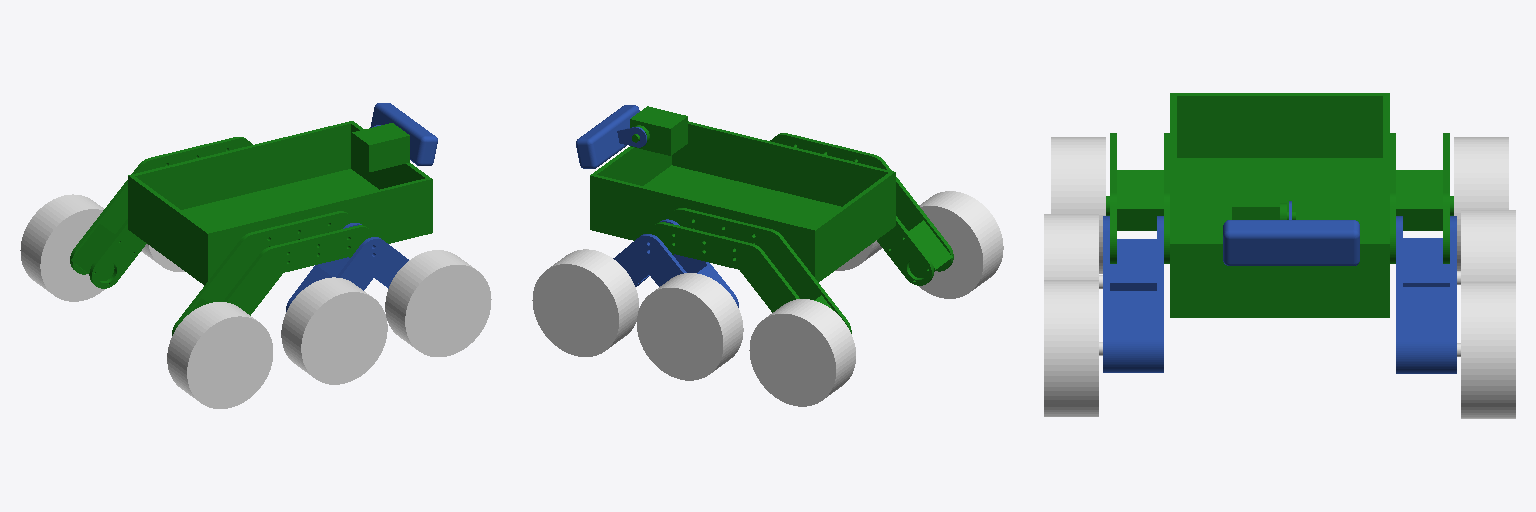
--- What the picture shows (computed from the rendered views, not written in the file) ---
The picture shows the robot from 3 angles, left to right: view 1: azimuth 30°, elevation 25°; view 2: azimuth 150°, elevation 25°; view 3: azimuth 270°, elevation 25°; orthographic projection.
Robot: robot — 11 links, 10 joints (3 revolute, 6 continuous, 1 fixed); root link dummy; default pose: all joints at 0 but 1 set to mid-range because 0 is outside their limits (Junta_Camara = 5.97).
Links seen in each view (by area): view 1: l1, rueda10cm_2, rueda10cm_6, rueda10cm, rueda10cm_5, l2_l3_modificado-2, conexion_mr; view 2: l1, rueda10cm_5, rueda10cm_3, rueda10cm_4, rueda10cm_6, l2_l3_modificado-2_2, conexion_mr; view 3: l1, l2_l3_modificado-2_2, l2_l3_modificado-2, rueda10cm, rueda10cm_4, conexion_mr, rueda10cm_6, rueda10cm_5, rueda10cm_3, rueda10cm_2.
Boxes of the visible links, x1=… form: l1: x1=70, y1=121, x2=432, y2=335; rueda10cm_2: x1=281, y1=277, x2=387, y2=384; rueda10cm_6: x1=167, y1=302, x2=272, y2=408; rueda10cm: x1=385, y1=250, x2=491, y2=356; rueda10cm_5: x1=20, y1=194, x2=104, y2=301; l2_l3_modificado-2: x1=286, y1=223, x2=408, y2=311; conexion_mr: x1=370, y1=103, x2=437, y2=165; l1: x1=590, y1=106, x2=953, y2=333; rueda10cm_5: x1=749, y1=299, x2=855, y2=406; rueda10cm_3: x1=637, y1=273, x2=743, y2=380; rueda10cm_4: x1=532, y1=249, x2=638, y2=356; rueda10cm_6: x1=919, y1=191, x2=1003, y2=298; l2_l3_modificado-2_2: x1=613, y1=219, x2=738, y2=307; conexion_mr: x1=576, y1=105, x2=646, y2=168; l1: x1=1106, y1=93, x2=1453, y2=317; l2_l3_modificado-2_2: x1=1396, y1=216, x2=1456, y2=373; l2_l3_modificado-2: x1=1103, y1=216, x2=1163, y2=372; rueda10cm: x1=1044, y1=280, x2=1102, y2=416; rueda10cm_4: x1=1457, y1=282, x2=1515, y2=418; conexion_mr: x1=1223, y1=201, x2=1359, y2=265; rueda10cm_6: x1=1051, y1=137, x2=1105, y2=273; rueda10cm_5: x1=1454, y1=137, x2=1508, y2=270; rueda10cm_3: x1=1457, y1=210, x2=1515, y2=284; rueda10cm_2: x1=1044, y1=214, x2=1102, y2=288.
Size in the robot's own frame: 0.365 by 0.344 by 0.183 metres.
10 mesh visuals loaded from 4 distinct referenced files (4 binary STL).

The robot description file, URDF, robot "robot":
<?xml version="1.0"?>
<robot name="robot" fixed_frame="dummy">
  <static>true</static>
  <link name="dummy" fixed="true">
  </link>  

  <link name="l1">
    <visual>
      <origin xyz="-0.1623976833979026424 -0.20144544793473978528 0.26749193742773980098" rpy="1.5707963207290305263 2.9721157967096936663e-09 3.8418044321784632697e-10" />
      
      <geometry>
        <mesh filename="package://robot_description/archives/l1.stl"/>
      </geometry>
      <material name="l1_material">
        <color rgba="0.12941176470588236502 0.54117647058823525885 0.12941176470588236502 1.0"/>
      </material>
    </visual>
    <collision>
      <origin xyz="-0.1623976833979026424 -0.20144544793473978528 0.26749193742773980098" rpy="1.5707963207290305263 2.9721157967096936663e-09 3.8418044321784632697e-10" />
      <geometry>
        <mesh filename="package://robot_description/archives/l1.stl"/>
      </geometry>
    </collision>
    
    <inertial>
      <origin xyz="-0.18259398235284227119 -0.20236856510100109663 0.28038785160103718574" rpy="0 0 0"/>
      <mass value="1.1600736868674601521" />
      <inertia ixx="0.0066008651014344225244" ixy="0.000135586235209932273"  ixz="-0.0014781260412425468835" iyy="0.0106966871170354038" iyz="6.649765397261118234e-05" izz="0.015519266864299045838" />
    </inertial>
  </link>

  <joint name="dummy_joint" type="fixed">
    <parent link="dummy"/>
    <child link="l1"/>
  </joint>

  <link name="l2_l3_modificado-2">
    <visual>
      <origin xyz="5.5511151231257827021e-17 0 -0.038999999999999979128" rpy="1.570796326794896558 4.2986550190141303174e-25 -3.216697786438753181e-18" />
      <geometry>
        <mesh filename="package://robot_description/archives/l2_l3_modificado-2.stl"/>
      </geometry>
      <material name="l2_l3_modificado-2_material">
        <color rgba="0.2313725490196078538 0.38039215686274507888 0.7058823529411765163 1.0"/>
      </material>
    </visual>
    <collision>
      <origin xyz="5.5511151231257827021e-17 0 -0.038999999999999979128" rpy="1.570796326794896558 4.2986550190141303174e-25 -3.216697786438753181e-18" />
      <geometry>
        <mesh filename="package://robot_description/archives/l2_l3_modificado-2.stl"/>
      </geometry>
    </collision>
    <inertial>
      <origin xyz="0.041604917307636699042 -0.00094186232242258831858 -0.016999999999999983874" rpy="0 0 0"/>
      <mass value="0.19878085526035954578" />
      <inertia ixx="0.00045600719533735693942" ixy="-2.1979347753071152987e-06"  ixz="-1.0461624586299991404e-28" iyy="0.0001117948906171440602" iyz="9.2711153304661378454e-30" izz="0.00048695372639961931327" />
    </inertial>
  </link>

  <link name="rueda10cm">
    <visual>
      <origin xyz="1.3877787807814456755e-17 0 -0.0030000000000000026645" rpy="-3.141592653589793116 -1.3232887103194747433e-25 2.6346479003792640069e-17" />
      <geometry>
          <mesh filename="package://robot_description/archives/rueda10cm.stl"/> 
      </geometry>
      <material name="rueda10cm_material">
        <color rgba="0.92156862745098033773 0.92156862745098033773 0.92156862745098033773 1.0"/>
      </material>
    </visual>
    <collision>
      <origin xyz="1.3877787807814456755e-17 0 -0.0030000000000000026645" rpy="-3.141592653589793116 -1.3232887103194747433e-25 2.6346479003792640069e-17" />
      <geometry>
          <mesh filename="package://robot_description/archives/rueda10cm.stl"/> 
      </geometry>
    </collision>
    <inertial>
      <origin xyz="1.294233490998378539e-17 9.8517850733825063838e-27 -0.022983887084686488445" rpy="0 0 0"/>
      <mass value="0.39299360600999816429" />
      <inertia ixx="0.00029793490712322410856" ixy="1.3173188654394999504e-20"  ixz="9.1874021171282252066e-29" iyy="0.00029793490712322416277" iyz="3.7183220189298748782e-29" izz="0.00049087753367729617185" />
    </inertial>
  </link>

  <joint name="Junta_R2" type="continuous">
      <origin xyz="0.060104076400856659701 0.060104076400856493168 0.0050000000000000044409" rpy="-3.141592653589793116 2.9562705873466152294e-18 -1.8301287006490860598" />
      <parent link="l2_l3_modificado-2" />
      <child link="rueda10cm" />
      <axis xyz="0 0 1"/>
      <limit effort="1" velocity="20" />
      <joint_properties friction="0.0"/>
  </joint>

  <link name="rueda10cm_2">
    <visual>
        <origin xyz="0 -1.3877787807814456755e-17 -0.0030000000000000026645" rpy="3.141592653589793116 -2.6504195547553351625e-25 -5.0019989647842346759e-17" />
        <geometry>
          <mesh filename="package://robot_description/archives/rueda10cm.stl"/> 
        </geometry>
        <material name="rueda10cm_material">
        <color rgba="0.92156862745098033773 0.92156862745098033773 0.92156862745098033773 1.0"/>
        </material>
    </visual>
    <collision>
        <origin xyz="0 -1.3877787807814456755e-17 -0.0030000000000000026645" rpy="3.141592653589793116 -2.6504195547553351625e-25 -5.0019989647842346759e-17" />
        <geometry>
          <mesh filename="package://robot_description/archives/rueda10cm.stl"/> 
        </geometry>
    </collision>
    <inertial>
        <origin xyz="-9.3545290370249415002e-19 -1.387778780482895257e-17 -0.022983887084686488445" rpy="0 0 0"/>
        <mass value="0.39299360600999816429" />
        <inertia ixx="0.00029793490712322421698" ixy="-2.5879488531348470936e-20"  ixz="2.7564737175589557739e-28" iyy="0.00029793490712322405435" iyz="-3.6156487985184271184e-28" izz="0.00049087753367729617185" />
    </inertial>
  </link>

  <joint name="Junta_R4" type="continuous">
      <origin xyz="0.060104076400856659701 -0.060104076400856465412 0.0049999999999999489297" rpy="-3.141592653589793116 7.3658748660732636819e-17 0.92941691210605825724" />
      <parent link="l2_l3_modificado-2" />
      <child link="rueda10cm_2" />
      <axis xyz="0 0 1"/>
      <limit effort="1" velocity="20" />
      <joint_properties friction="0.0"/>
  </joint>

  <joint name="Junta_Pasiva_Derecha" type="revolute">
      <origin xyz="-0.12847176905482229903 -0.32544544781112361154 0.28572223970686733141" rpy="1.5707960183954783329 1.5511261948845664893 -3.0795557762774570826e-07" />
      <parent link="l1" />
      <child link="l2_l3_modificado-2" />
      <axis xyz="0 0 1"/>
      <limit effort="1" velocity="20" lower="-0.56" upper="2.0071286397934788859"/>
      <joint_properties friction="0.0"/>
  </joint>

  <link name="l2_l3_modificado-2_2">
    <visual>
        <origin xyz="5.5511151231257827021e-17 -2.7755575615628913511e-17 -0.039000000000000006883" rpy="1.570796326794896558 -8.2858707243642392136e-26 -3.3812745298728782663e-18" />
        <geometry>
        <mesh filename="package://robot_description/archives/l2_l3_modificado-2.stl"/>
        </geometry>
        <material name="l2_l3_modificado-2_material">
        <color rgba="0.2313725490196078538 0.38039215686274507888 0.7058823529411765163 1.0"/>
        </material>
    </visual>
    <collision>
        <origin xyz="5.5511151231257827021e-17 -2.7755575615628913511e-17 -0.039000000000000006883" rpy="1.570796326794896558 -8.2858707243642392136e-26 -3.3812745298728782663e-18" />
        <geometry>
        <mesh filename="package://robot_description/archives/l2_l3_modificado-2.stl"/>
        </geometry>
    </collision>
    <inertial>
        <origin xyz="0.041604917307636699042 -0.00094186232242261607416 -0.01700000000000001163" rpy="0 0 0"/>
        <mass value="0.19878085526035954578" />
        <inertia ixx="0.00045600719533735715626" ixy="-2.1979347753071165692e-06"  ixz="4.9485917399825457933e-28" iyy="0.0001117948906171440602" iyz="-6.0931890735852266954e-30" izz="0.00048695372639961931327" />
    </inertial>
  </link>

  <link name="rueda10cm_3">
    <visual>
        <origin xyz="0 -4.1633363423443370266e-17 -0.0030000000000000026645" rpy="3.141592653589793116 2.4908934271607221179e-25 -8.0053156761873463748e-18" />
        <geometry>
          <mesh filename="package://robot_description/archives/rueda10cm.stl"/> 
        </geometry>
        <material name="rueda10cm_material">
        <color rgba="0.92156862745098033773 0.92156862745098033773 0.92156862745098033773 1.0"/>
        </material>
    </visual>
    <collision>
        <origin xyz="0 -4.1633363423443370266e-17 -0.0030000000000000026645" rpy="3.141592653589793116 2.4908934271607221179e-25 -8.0053156761873463748e-18" />
        <geometry>
          <mesh filename="package://robot_description/archives/rueda10cm.stl"/> 
        </geometry>
    </collision>
    <inertial>
        <origin xyz="-9.3545289037793300012e-19 -4.1633363414700092053e-17 -0.022983887084686488445" rpy="0 0 0"/>
        <mass value="0.39299360600999816429" />
        <inertia ixx="0.00029793490712322421698" ixy="-2.439209806515452231e-21"  ixz="-2.0483036187190332069e-28" iyy="0.00029793490712322416277" iyz="-2.9292185877211298753e-28" izz="0.00049087753367729638869" />
    </inertial>
  </link>

  <joint name="Junta_R3" type="continuous">
      <origin xyz="0.060104076400856631945 0.060104076400856520923 0.0049999999999999905631" rpy="-3.141592653589793116 -4.2241592123221963104e-16 -0.49922167178213477934" />
      <parent link="l2_l3_modificado-2_2" />
      <child link="rueda10cm_3" />
      <axis xyz="0 0 1"/>
      <limit effort="1" velocity="20" />
      <joint_properties friction="0.0"/>
  </joint>

  <link name="rueda10cm_4">
    <visual>
        <origin xyz="0 6.9388939039072283776e-18 -0.0029999999999999887867" rpy="3.141592653589793116 -1.1528672886827154028e-24 1.4271986254412883463e-17" />
        <geometry>
          <mesh filename="package://robot_description/archives/rueda10cm.stl"/> 
        </geometry>
        <material name="rueda10cm_material">
        <color rgba="0.92156862745098033773 0.92156862745098033773 0.92156862745098033773 1.0"/>
        </material>
    </visual>
    <collision>
        <origin xyz="0 6.9388939039072283776e-18 -0.0029999999999999887867" rpy="3.141592653589793116 -1.1528672886827154028e-24 1.4271986254412883463e-17" />
        <geometry>
          <mesh filename="package://robot_description/archives/rueda10cm.stl"/> 
        </geometry>
    </collision>
    <inertial>
        <origin xyz="-9.3545291045017016982e-19 6.9388939147764589971e-18 -0.022983887084686474567" rpy="0 0 0"/>
        <mass value="0.39299360600999816429" />
        <inertia ixx="0.00029793490712322421698" ixy="7.2000410004067763659e-22"  ixz="7.0590919239142746815e-28" iyy="0.00029793490712322416277" iyz="-2.9065917041569690948e-28" izz="0.00049087753367729638869" />
    </inertial>
  </link>

  <joint name="Junta_R1" type="continuous">
      <origin xyz="0.060104076400856659701 -0.060104076400856507045 0.0049999999999999905631" rpy="-3.141592653589793116 -7.6282239131955771344e-16 -0.25904331776269451382" />
      <parent link="l2_l3_modificado-2_2" />
      <child link="rueda10cm_4" />
      <axis xyz="0 0 1"/>
      <limit effort="1" velocity="20" />
      <joint_properties friction="0.0"/>
  </joint>

  <joint name="Junta_Pasiva_Izquierda" type="revolute">
      <origin xyz="-0.12847176915009908549 -0.077445447811123502291 0.28572223820253256354" rpy="1.5707966702343139076 1.5531332946124785099 -3.141592309819767781" />
      <parent link="l1" />
      <child link="l2_l3_modificado-2_2" />
      <axis xyz="0 0 1"/>
      <limit effort="1" velocity="20" lower="-2.0071286397934788859" upper="0.56"/>
      <joint_properties friction="0.0"/>
  </joint>
  <link name="rueda10cm_5">
    <visual>
        <origin xyz="-5.5511151231257827021e-17 3.8163916471489756077e-17 -0.0030000000000000026645" rpy="3.141592653589793116 4.5599766001557814531e-26 -5.3448204808567667487e-17" />
        <geometry>
          <mesh filename="package://robot_description/archives/rueda10cm.stl"/> 
        </geometry>
        <material name="rueda10cm_material">
        <color rgba="0.92156862745098033773 0.92156862745098033773 0.92156862745098033773 1.0"/>
        </material>
    </visual>
    <collision>
        <origin xyz="-5.5511151231257827021e-17 3.8163916471489756077e-17 -0.0030000000000000026645" rpy="3.141592653589793116 4.5599766001557814531e-26 -5.3448204808567667487e-17" />
        <geometry>
          <mesh filename="package://robot_description/archives/rueda10cm.stl"/> 
        </geometry>
    </collision>
    <inertial>
        <origin xyz="-5.6446604118712877449e-17 3.8163916471733212111e-17 -0.022983887084686488445" rpy="0 0 0"/>
        <mass value="0.39299360600999816429" />
        <inertia ixx="0.00029793490712322421698" ixy="-2.3218875773836857727e-20"  ixz="-2.1600035251038875236e-28" iyy="0.00029793490712322416277" iyz="-1.1080630077344665209e-28" izz="0.00049087753367729617185" />
    </inertial>
  </link>

  <joint name="Junta_R5" type="continuous">
      <origin xyz="-0.31664389559457595258 -0.077445448247987117019 0.22562009378018710315" rpy="1.5707963196849008547 0.54880942899339246743 -3.3249042015534336724e-09" />
      <parent link="l1" />
      <child link="rueda10cm_5" />
      <axis xyz="0 0 1"/>
      <limit effort="1" velocity="20" />
      <joint_properties friction="0.0"/>
  </joint>

  <link name="rueda10cm_6">
    <visual>
        <origin xyz="-5.5511151231257827021e-17 2.7755575615628913511e-17 -0.0030000000000000026645" rpy="-3.141592653589793116 -4.8443625614625081283e-25 6.2726312896667128663e-17" />
        <geometry>
          <mesh filename="package://robot_description/archives/rueda10cm.stl"/> 
        </geometry>
        <material name="rueda10cm_material">
        <color rgba="0.92156862745098033773 0.92156862745098033773 0.92156862745098033773 1.0"/>
        </material>
    </visual>
    <collision>
        <origin xyz="-5.5511151231257827021e-17 2.7755575615628913511e-17 -0.0030000000000000026645" rpy="-3.141592653589793116 -4.8443625614625081283e-25 6.2726312896667128663e-17" />
        <geometry>
          <mesh filename="package://robot_description/archives/rueda10cm.stl"/> 
        </geometry>
    </collision>
    <inertial>
        <origin xyz="-5.6446604113580856548e-17 2.7755575623592649238e-17 -0.022983887084686488445" rpy="0 0 0"/>
        <mass value="0.39299360600999816429" />
        <inertia ixx="0.00029793490712322421698" ixy="-3.8673658401404432998e-20"  ixz="-1.8414552764643867941e-28" iyy="0.00029793490712322427119" iyz="-9.4221902638914639646e-29" izz="0.00049087753367729617185" />
    </inertial>
  </link>

  <joint name="Junta_R6" type="continuous">
      <origin xyz="-0.31664389549929922163 -0.32544544824798721239 0.22562009528452187102" rpy="-1.5707963357497458645 0.82659653085727002875 -6.2032771584579110388e-09" />
      <parent link="l1" />
      <child link="rueda10cm_6" />
      <axis xyz="0 0 1"/>
      <limit effort="1" velocity="20" />
      <joint_properties friction="0.0"/>
  </joint>
 


  <transmission name="wj1_trans">
    <type>transmission_interface/SimpleTransmission</type>
    <joint name="Junta_R1">
      <hardwareInterface>hardware_interface/VelocityJointInterface</hardwareInterface>
    </joint>
    <actuator name="$wj1_motor">
      <mechanicalReduction>1</mechanicalReduction>
    </actuator>
  </transmission>

  <transmission name="wj2_trans">
    <type>transmission_interface/SimpleTransmission</type>
    <joint name="Junta_R2">
      <hardwareInterface>hardware_interface/VelocityJointInterface</hardwareInterface>
    </joint>
    <actuator name="$wj2_motor">
      <mechanicalReduction>1</mechanicalReduction>
    </actuator>
  </transmission>
  
  <transmission name="wj3_trans">
    <type>transmission_interface/SimpleTransmission</type>
    <joint name="Junta_R3">
      <hardwareInterface>hardware_interface/VelocityJointInterface</hardwareInterface>
    </joint>
    <actuator name="$wj3_motor">
      <mechanicalReduction>1</mechanicalReduction>
    </actuator>
  </transmission>
  
  <transmission name="wj4_trans">
    <type>transmission_interface/SimpleTransmission</type>
    <joint name="Junta_R4">
      <hardwareInterface>hardware_interface/VelocityJointInterface</hardwareInterface>
    </joint>
    <actuator name="$wj4_motor">
      <mechanicalReduction>1</mechanicalReduction>
    </actuator>
  </transmission>

  <transmission name="wj5_trans">
    <type>transmission_interface/SimpleTransmission</type>
    <joint name="Junta_R5">
      <hardwareInterface>hardware_interface/VelocityJointInterface</hardwareInterface>
    </joint>
    <actuator name="$wj5_motor">
      <mechanicalReduction>1</mechanicalReduction>
    </actuator>
  </transmission>
  
  <transmission name="wj6_trans">
    <type>transmission_interface/SimpleTransmission</type>
    <joint name="Junta_R6">
      <hardwareInterface>hardware_interface/VelocityJointInterface</hardwareInterface>
    </joint>
    <actuator name="$wj6_motor">
      <mechanicalReduction>1</mechanicalReduction>
    </actuator>
  </transmission>



   <gazebo reference="rueda10cm">
    <mu1 value="200.0"/>
    <mu2 value="100.0"/>
    <kp value="10000000.0" />
    <kd value="1.0" />
    <material>Gazebo/Grey</material>
  </gazebo>

  <gazebo reference="rueda10cm_2">
    <mu1 value="200.0"/>
    <mu2 value="100.0"/>
    <kp value="10000000.0" />
    <kd value="1.0" />
    <material>Gazebo/Grey</material>
  </gazebo>

  <gazebo reference="rueda10cm_3">
    <mu1 value="200.0"/>
    <mu2 value="100.0"/>
    <kp value="10000000.0" />
    <kd value="1.0" />
    <material>Gazebo/Grey</material>
  </gazebo>

  <gazebo reference="rueda10cm_4">
    <mu1 value="200.0"/>
    <mu2 value="100.0"/>
    <kp value="10000000.0" />
    <kd value="1.0" />
    <material>Gazebo/Grey</material>
  </gazebo>

  <gazebo reference="rueda10cm_5">
    <mu1 value="200.0"/>
    <mu2 value="100.0"/>
    <kp value="10000000.0" />
    <kd value="1.0" />
    <material>Gazebo/Grey</material>
  </gazebo>

  <gazebo reference="rueda10cm_6">
    <mu1 value="200.0"/>
    <mu2 value="100.0"/>
    <kp value="10000000.0" />
    <kd value="1.0" />
    <material>Gazebo/Grey</material>
  </gazebo>
  
  <gazebo reference="l1">
    <material>Gazebo/Red</material>
  </gazebo>

  <gazebo reference="l2_l3_modificado-2">
    <material>Gazebo/Green</material>
  </gazebo>

  <gazebo reference="l2_l3_modificado-2_2">
    <material>Gazebo/Green</material>
  </gazebo>

  <gazebo reference="conexion_mr">
    <material>Gazebo/Blue</material>
  </gazebo>
    <gazebo reference="velodyne">
    <sensor type="ray" name="velodyne-VLP16">
      <pose>0 0 0 0 0 0</pose>
      <visualize>false</visualize>
      <update_rate>10</update_rate>
      <ray>
        <scan>
          <horizontal>
            <samples>1875</samples>
            <resolution>1</resolution>
              <min_angle>-3.1415926535897931</min_angle>
              <max_angle>3.1415926535897931</max_angle>
          </horizontal>
          <vertical>
            <samples>16</samples>
            <resolution>1</resolution>
            <min_angle>-0.26</min_angle>
            <max_angle>0.26</max_angle>
          </vertical>
        </scan>
        <range>
          <min>0.9</min>
          <max>131.0</max>
          <resolution>0.001</resolution>
        </range>
        <noise>
          <type>gaussian</type>
          <mean>0.0</mean>
          <stddev>0.0</stddev>
        </noise>
      </ray>
      <plugin name="gazebo_ros_laser_controller" filename="libgazebo_ros_velodyne_laser.so">
        <topicName>/velodyne_points</topicName>
        <frameName>velodyne</frameName>
        <min_range>0.9</min_range>
        <max_range>130.0</max_range>
        <gaussianNoise>0.008</gaussianNoise>
      </plugin>
    </sensor>
  </gazebo>

  <gazebo>
    <plugin name="p3d_base_controller" filename="libgazebo_ros_p3d.so">
      <alwaysOn>true</alwaysOn>
      <updateRate>50.0</updateRate>
      <bodyName>l1</bodyName>
      <topicName>ground_truth/state</topicName>
      <gaussianNoise>0.01</gaussianNoise>
      <frameName>world</frameName>
      <xyzOffsets>0 0 0</xyzOffsets>
      <rpyOffsets>0 0 0</rpyOffsets>
    </plugin>
  </gazebo>

  <gazebo>
    <plugin name="gazebo_ros_control" filename="libgazebo_ros_control.so">
      <robotNamespace>/robot</robotNamespace>
    </plugin>
  </gazebo>
  
  <gazebo>
  <plugin name="imu_controller" filename="libgazebo_ros_imu.so">
    <alwaysOn>true</alwaysOn>
    <updateRate>20.0</updateRate>
    <bodyName>conexion_mr</bodyName>
    <topicName>imu</topicName>
    <gaussianNoise>0.05</gaussianNoise>
    <frameName>conexion_mr</frameName>
    <xyzOffsets>0 0 0</xyzOffsets>
    <rpyOffset>0 0 0</rpyOffset>
    <serviceName>/default_imu</serviceName>
  </plugin>
  </gazebo>
	
  <joint name="Junta_Camara" type="revolute">
      <origin xyz="-0.045397683175287389945 -0.19294544742878483312 0.34349193702844238452" rpy="-1.5707963389266283993 -1.0471975482244821887 1.0890568890590110418e-08" />
      <parent link="l1" />
      <child link="conexion_mr" />
      <axis xyz="0 0 1"/>
      <limit effort="1" velocity="20" lower="5.712388980384689674" upper="6.2359877559829888227"/>
      <joint_properties friction="0.0"/>
  </joint>

  
 <link name="conexion_mr">
  <visual>
      <origin xyz="0 -2.7755575615628913511e-17 -0.0020000000000000017764" rpy="1.570796326794896558 4.3612823454010153235e-25 -6.3908232138425416616e-17" />
      <geometry>
      <mesh filename="package://robot_description/archives/conexion_mr.stl"/>
      </geometry>
      <material name="conexion_mr_material">
      <color rgba="0.2313725490196078538 0.38039215686274507888 0.7058823529411765163 1.0"/>
      </material>
  </visual>
  <collision>
      <origin xyz="0 -2.7755575615628913511e-17 -0.0020000000000000017764" rpy="1.570796326794896558 4.3612823454010153235e-25 -6.3908232138425416616e-17" />
      <geometry>
      <mesh filename="package://robot_description/archives/conexion_mr.stl"/>
      </geometry>
  </collision>
  <inertial>
      <origin xyz="-4.59864341995735492e-19 0.031641568025377972417 -1.6895403053702670593e-05" rpy="0 0 0"/>
      <mass value="0.49858138809996860319" />
      <inertia ixx="0.00041914620991723221212" ixy="-3.9967895781289677242e-20"  ixz="-3.4618973733788555295e-11" iyy="0.00043682773523941376874" iyz="-2.1980440093701875885e-07" izz="6.245717210035468044e-05" />
  </inertial>
  </link>
  
   
  <gazebo reference="conexion_mr">
    <sensor type="camera" name="camera1">
      <update_rate>30.0</update_rate>
      <camera name="head">
        <horizontal_fov>1.3962634</horizontal_fov>
        <image>
          <width>800</width>
          <height>800</height>
          <format>R8G8B8</format>
        </image>
        <clip>
          <near>0.02</near>
          <far>300</far>
        </clip>
        <noise>
          <type>gaussian</type>
          
          <mean>0.0</mean>
          <stddev>0.007</stddev>
        </noise>
      </camera>
      <plugin name="camera_controller" filename="libgazebo_ros_camera.so">
        <alwaysOn>true</alwaysOn>
        <updateRate>0.0</updateRate>
        <cameraName>six_wheel_drive/camera1</cameraName>
        <imageTopicName>image_raw</imageTopicName>
        <cameraInfoTopicName>camera_info</cameraInfoTopicName>
        <frameName>camera_link</frameName>
        <hackBaseline>0.07</hackBaseline>
        <distortionK1>0.0</distortionK1>
        <distortionK2>0.0</distortionK2>
        <distortionK3>0.0</distortionK3>
        <distortionT1>0.0</distortionT1>
        <distortionT2>0.0</distortionT2>
      </plugin>
    </sensor>
  </gazebo>

  <!--
      <gazebo>
    <plugin name="diffdrive_controller" filename="libdiffdrive_plugin_6w.so">
            
      <robotNamespace>/robot_description</robotNamespace>
      <topicName>cmd_vel</topicName>
      <bodyName>l1</bodyName>
      <frontLeftJoint>Junta_R1</frontLeftJoint>
      <frontRightJoint>Junta_R2</frontRightJoint>
      <midLeftJoint>Junta_R3</midLeftJoint>
      <midRightJoint>Junta_R4</midRightJoint>
      <rearLeftJoint>Junta_R5</rearLeftJoint>
      <rearRightJoint>Junta_R6</rearRightJoint>
      <wheelSeparation>0.12</wheelSeparation>
      <wheelDiameter>0.10</wheelDiameter>
      <torque>10.0</torque>
    </plugin>
  </gazebo>
  -->
</robot>
